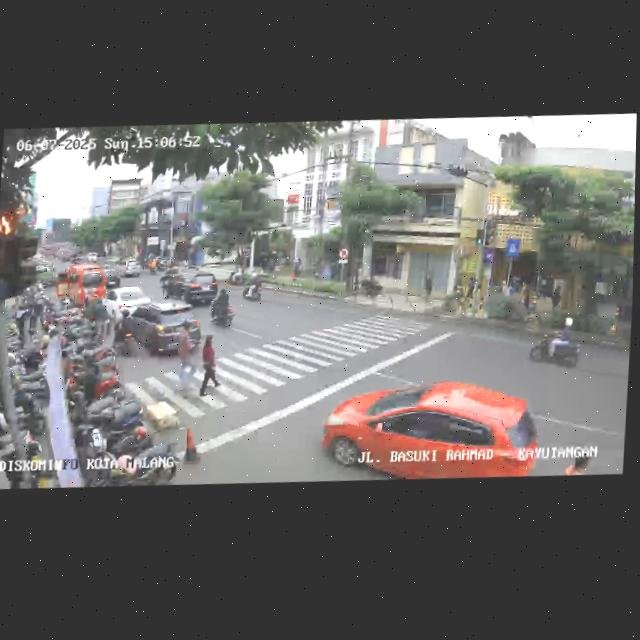car: (321, 372, 544, 488), (112, 297, 203, 362), (159, 265, 221, 307), (53, 260, 106, 309), (102, 282, 153, 321), (123, 258, 144, 279), (104, 266, 121, 290)
motorcycle: (525, 322, 584, 374), (109, 307, 140, 361), (208, 287, 237, 330), (243, 274, 265, 305)
person: (171, 318, 201, 400), (197, 331, 222, 398)
